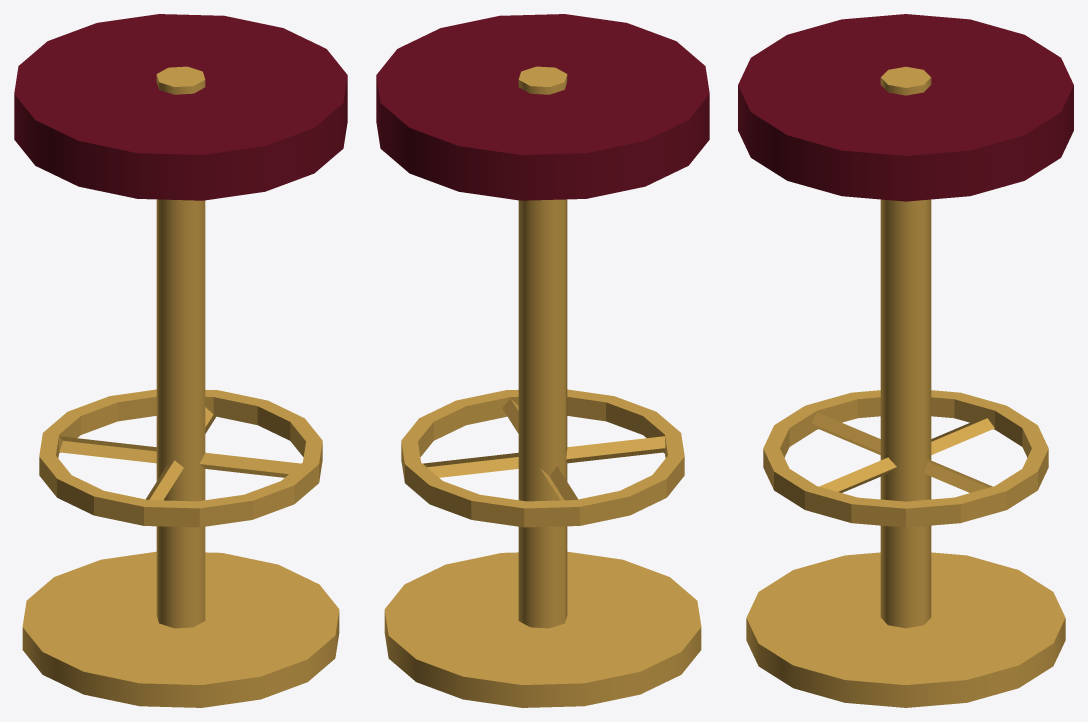
The model's file is bar_stool.glb.
3 renders of one model, left to right at view 1: azimuth 30°, elevation 25°; view 2: azimuth 150°, elevation 25°; view 3: azimuth 270°, elevation 25°, orthographic.
Parts seen in each view (by area): view 1: bar_stool; view 2: bar_stool; view 3: bar_stool.
Part boxes in pixels (bbox=[...]): bar_stool: bbox=[14, 14, 347, 707]; bar_stool: bbox=[376, 14, 709, 707]; bar_stool: bbox=[738, 14, 1073, 707].
Bounding box in the file's own units: 0.4 × 0.74 × 0.4.
